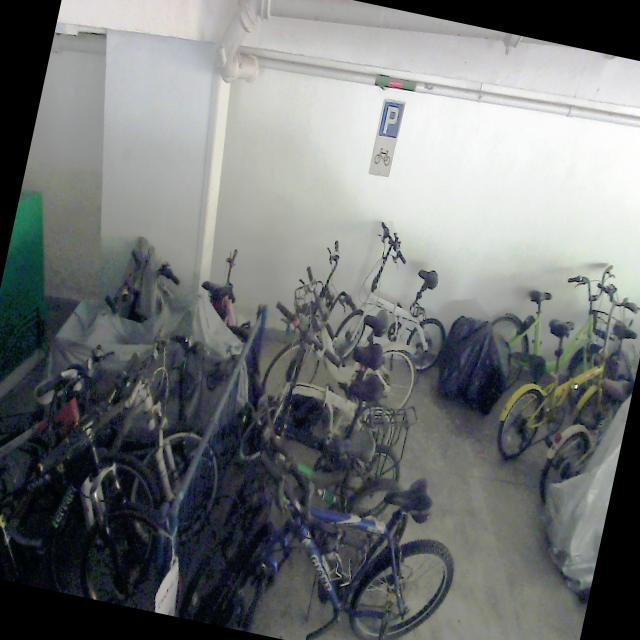bike: (0, 291, 246, 593), (177, 410, 477, 640), (197, 373, 430, 619), (0, 316, 194, 609), (260, 228, 442, 430), (244, 293, 425, 472), (490, 265, 640, 480), (472, 241, 625, 418), (327, 216, 466, 386)
